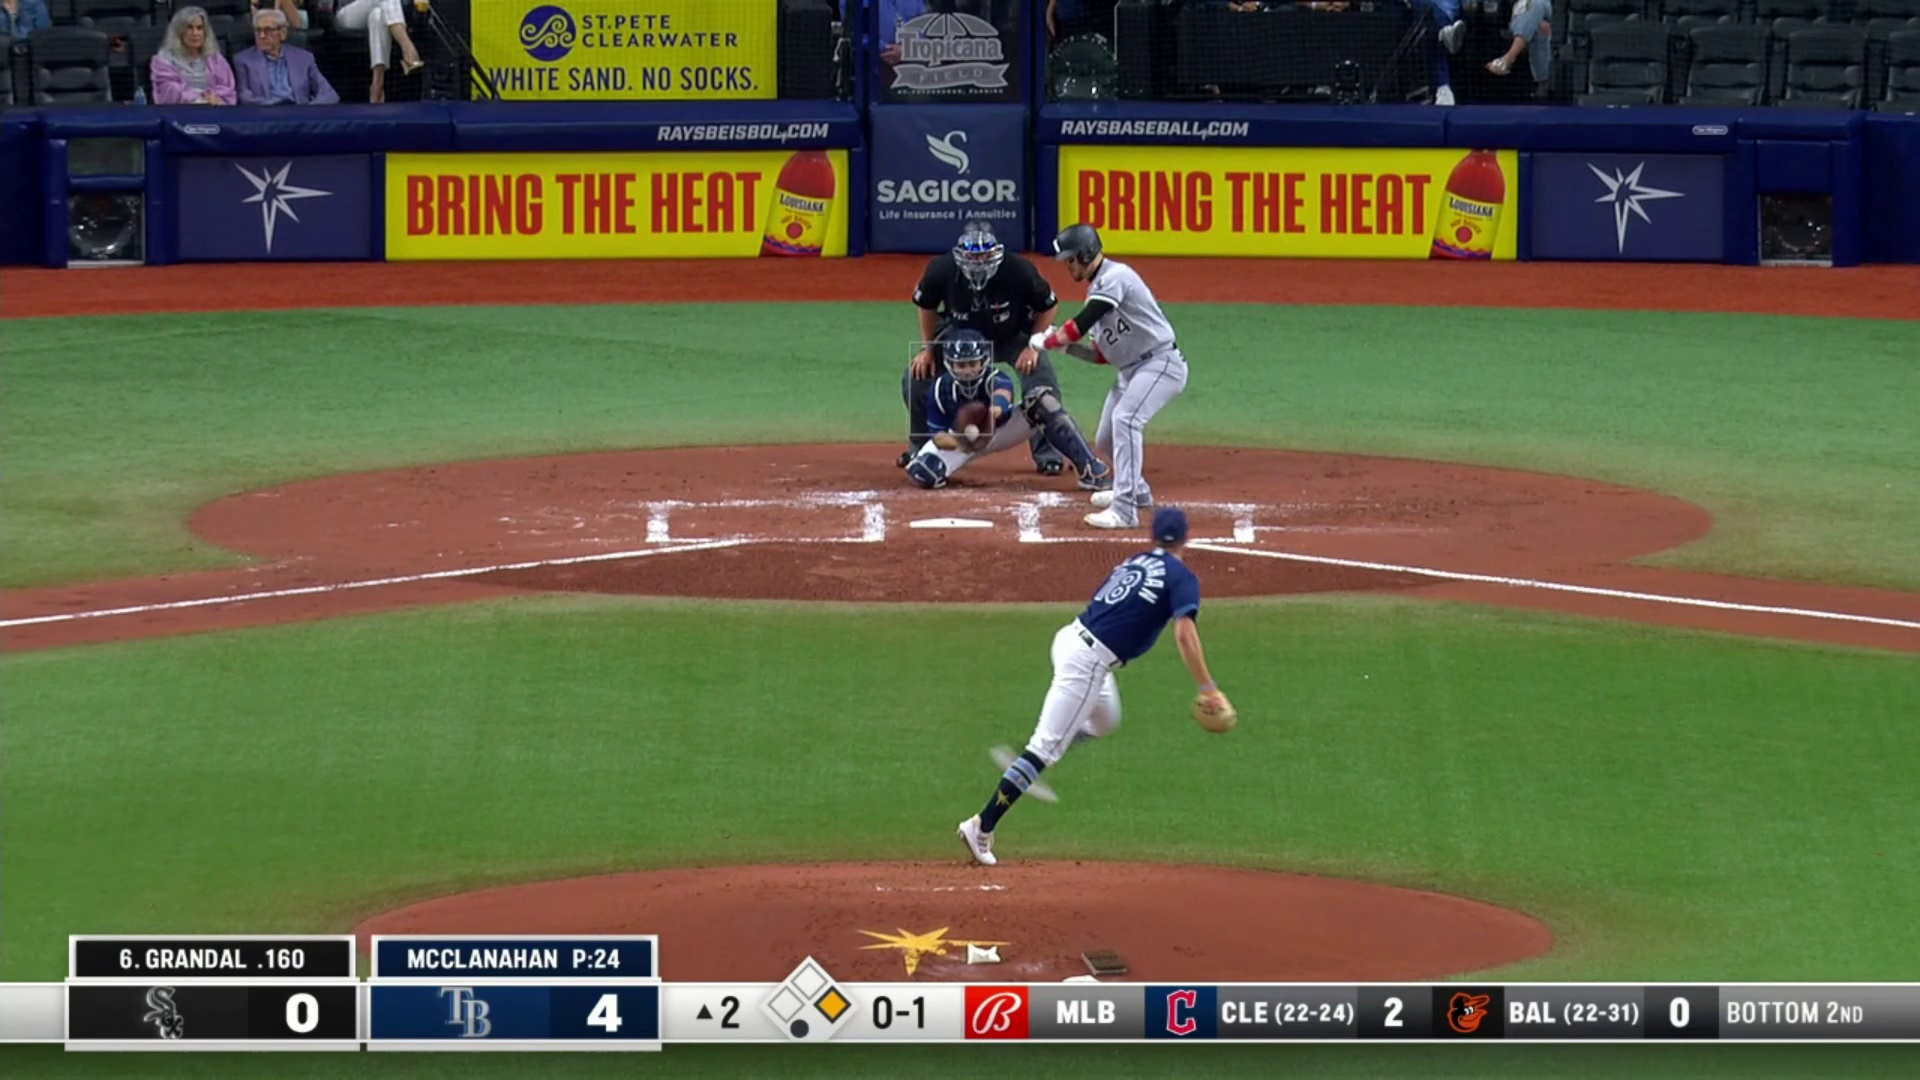baseball: (963, 423, 978, 440)
